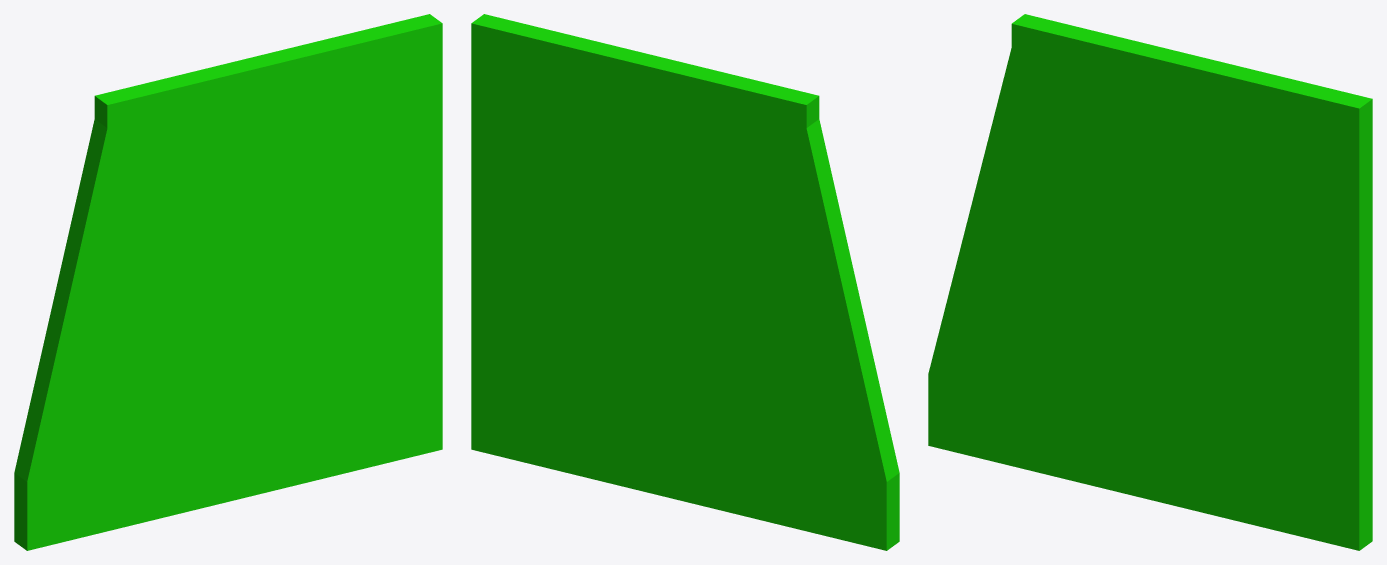
Rendered from sm_wall_corner_collider_updated.fbx.
3 renders of one model, left to right at view 1: azimuth 30°, elevation 25°; view 2: azimuth 150°, elevation 25°; view 3: azimuth 330°, elevation 25°, orthographic. The views are drawn at different scales.
Visible parts, largest first — view 1: Cube.010; view 2: Cube.010; view 3: Cube.010.
Part boxes in pixels (box(x1,y1,x2,y2)): Cube.010: box(14, 14, 442, 550); Cube.010: box(471, 14, 899, 550); Cube.010: box(928, 14, 1372, 550).
Bounding box in the file's own units: 7.6 × 7.45 × 0.4057.
